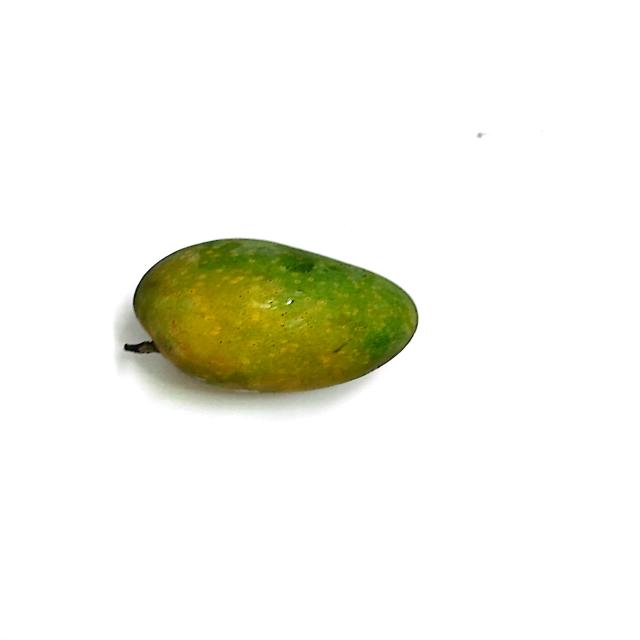fresh_mango: (132, 235, 420, 393)
